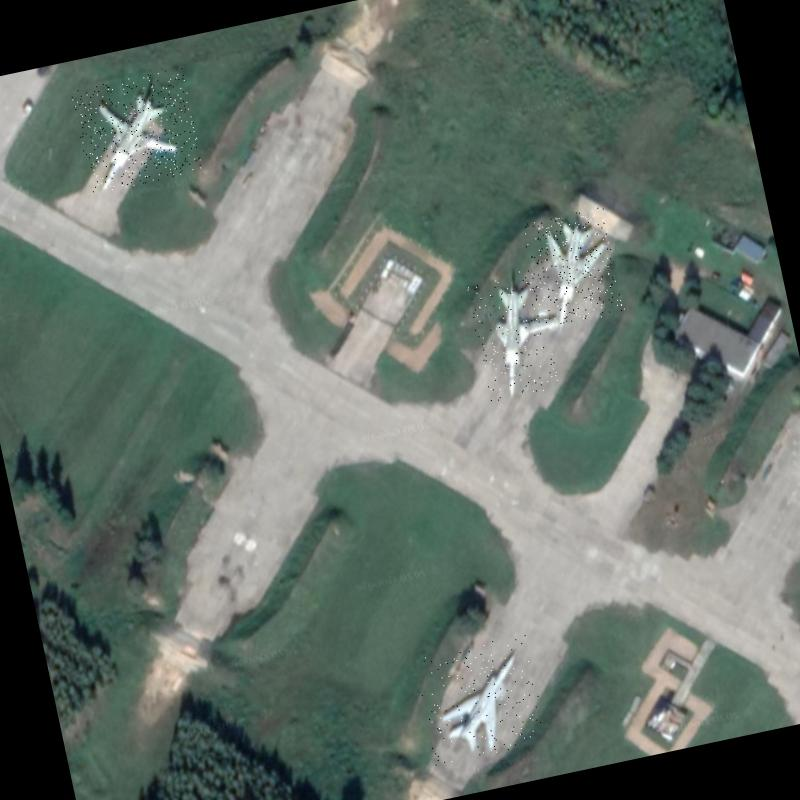A12: (412, 634, 548, 766), (70, 67, 204, 194), (521, 206, 626, 330), (465, 268, 560, 402)
